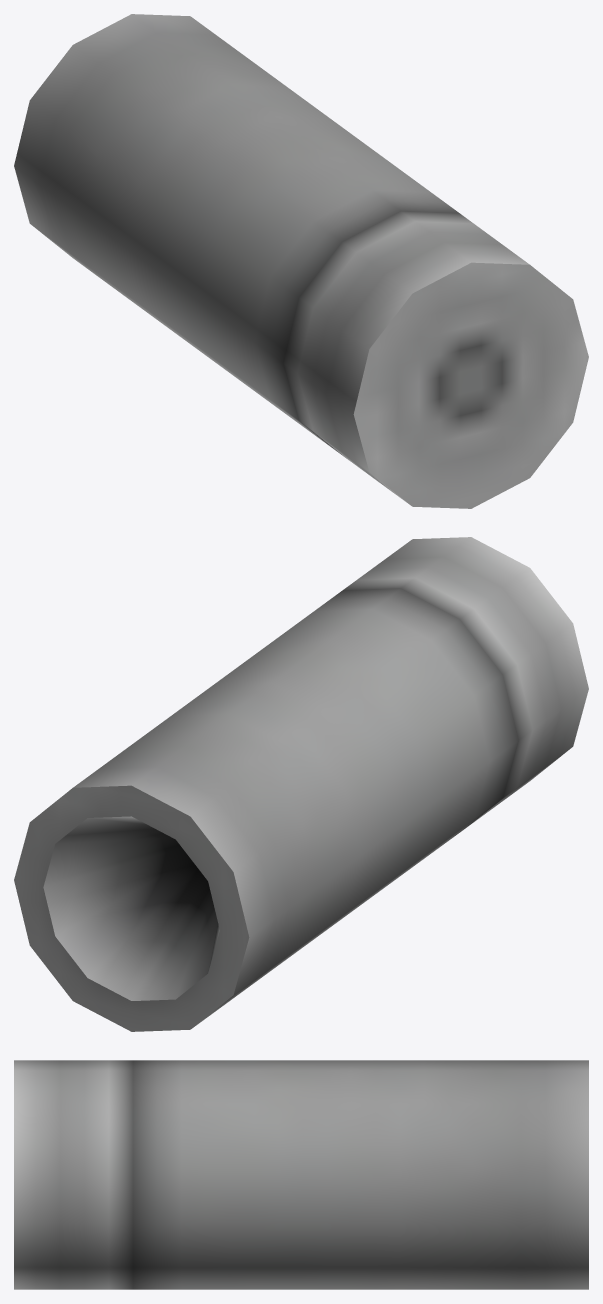
The model's file is octans_basic_rcs_srf_1.obj.
3 renders of one model, top to bottom at view 1: azimuth 30°, elevation 25°; view 2: azimuth 150°, elevation 25°; view 3: azimuth 270°, elevation 25°, orthographic. The views are drawn at different scales.
Visible parts, largest first — view 1: mesh; view 2: mesh; view 3: mesh.
Part boxes in pixels (box(x1,y1,x2,y2)): mesh: box(14, 14, 588, 508); mesh: box(14, 537, 588, 1031); mesh: box(14, 1060, 588, 1289).
Bounding box in the file's own units: 0.05 × 0.05 × 0.125.
